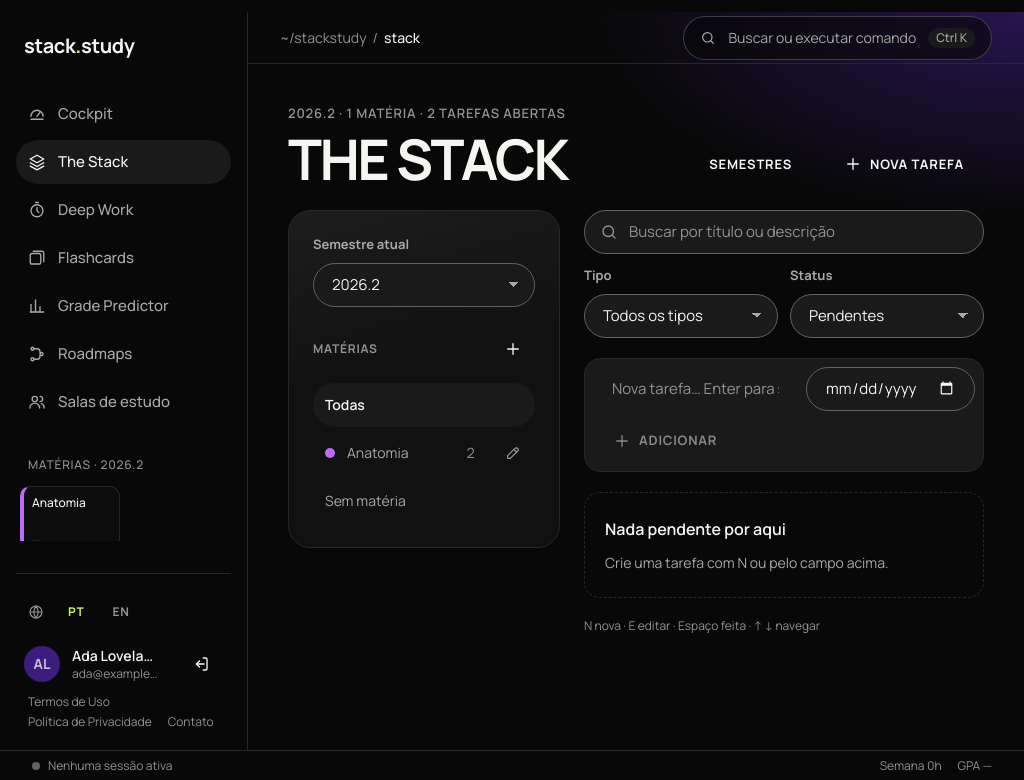
Test: The Stack page › empty state offers to clear filters; error state offers retry
Expected: the text "Nada pendente por aqui" is shown, [605,517,786,541]
Select "Feita" in the dropdown labelled "Status" at (887, 316), box [790,294,984,338]
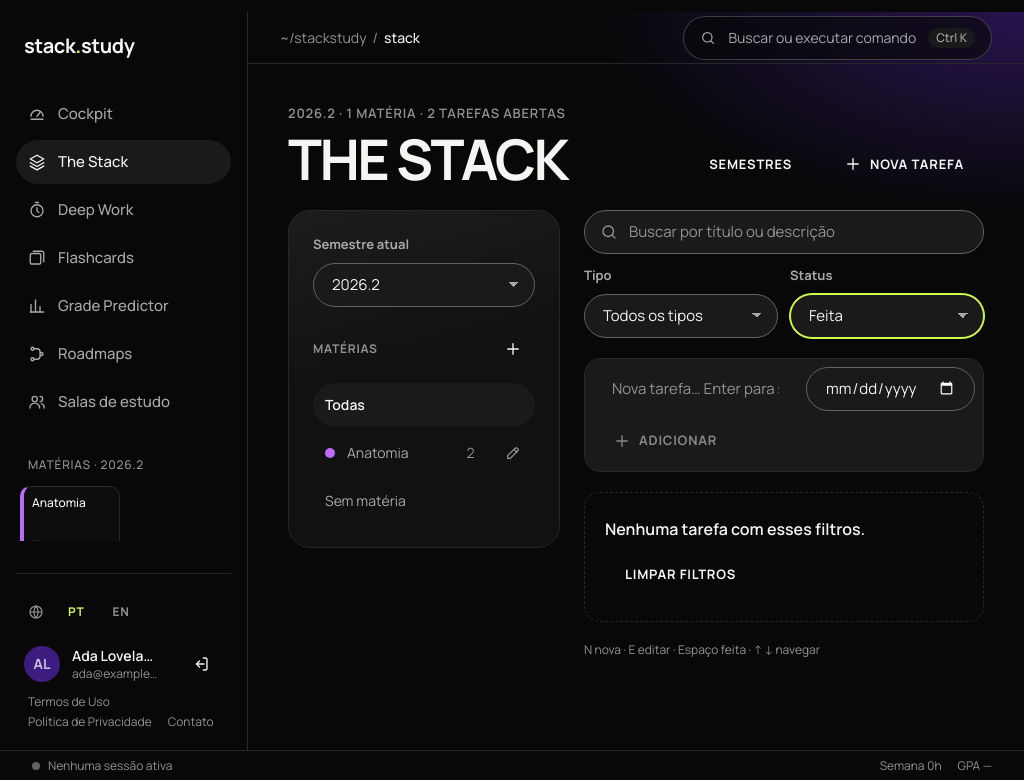
Result: the text "Nenhuma tarefa com esses filtros." is shown at [605,517,865,541]
Click the button "Limpar filtros".
click(680, 575)  # box [605,553,756,597]
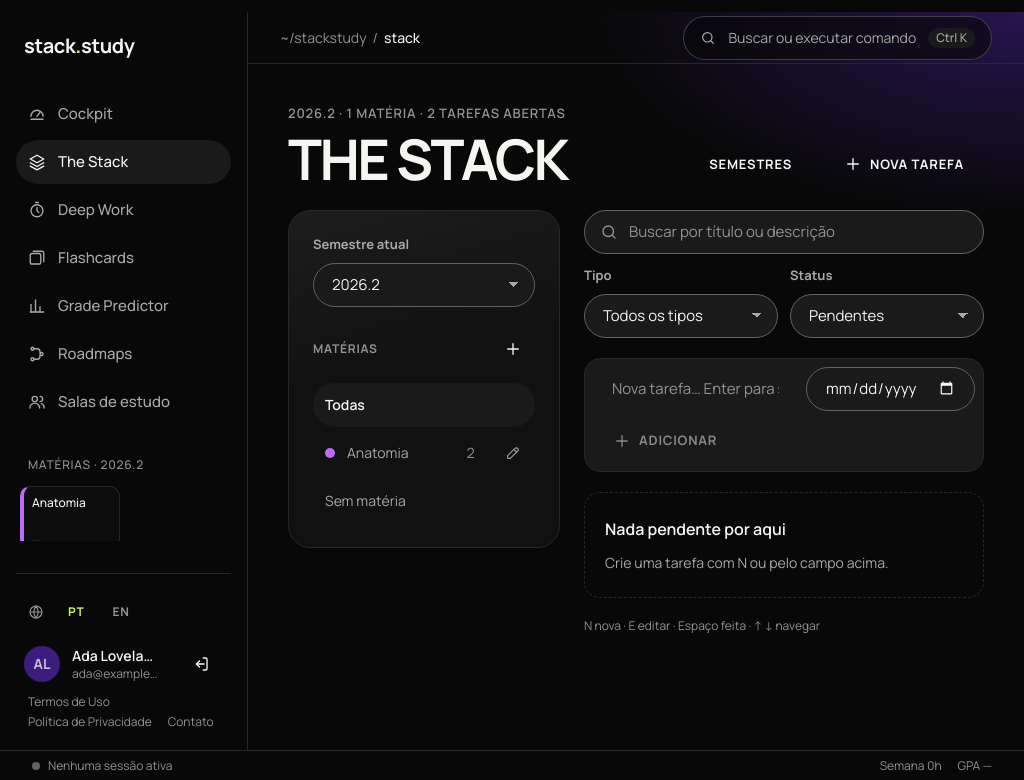
Result: the text "Nada pendente por aqui" is shown at [605,517,786,541]
